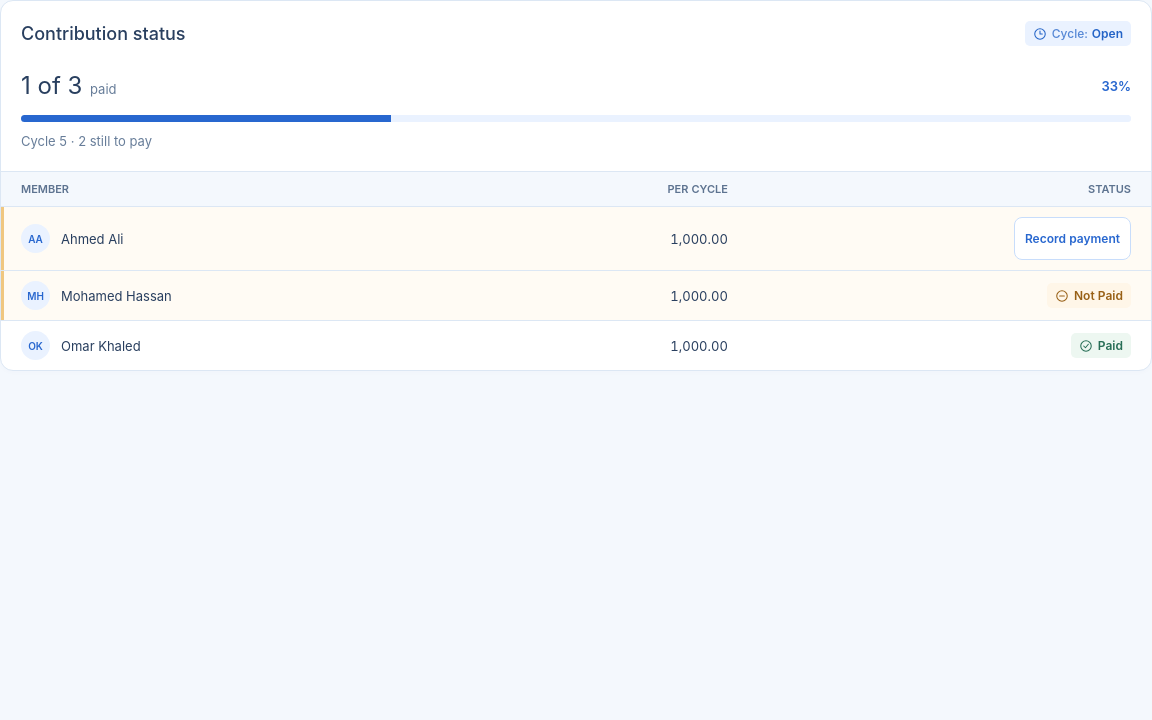
Test: Record payment › asks for confirmation, says no money moves, then posts exactly once
Click the button with aria-label "Record payment for Ahmed Ali" at (1072, 238), box x1=1014 y1=217 x2=1131 y2=260
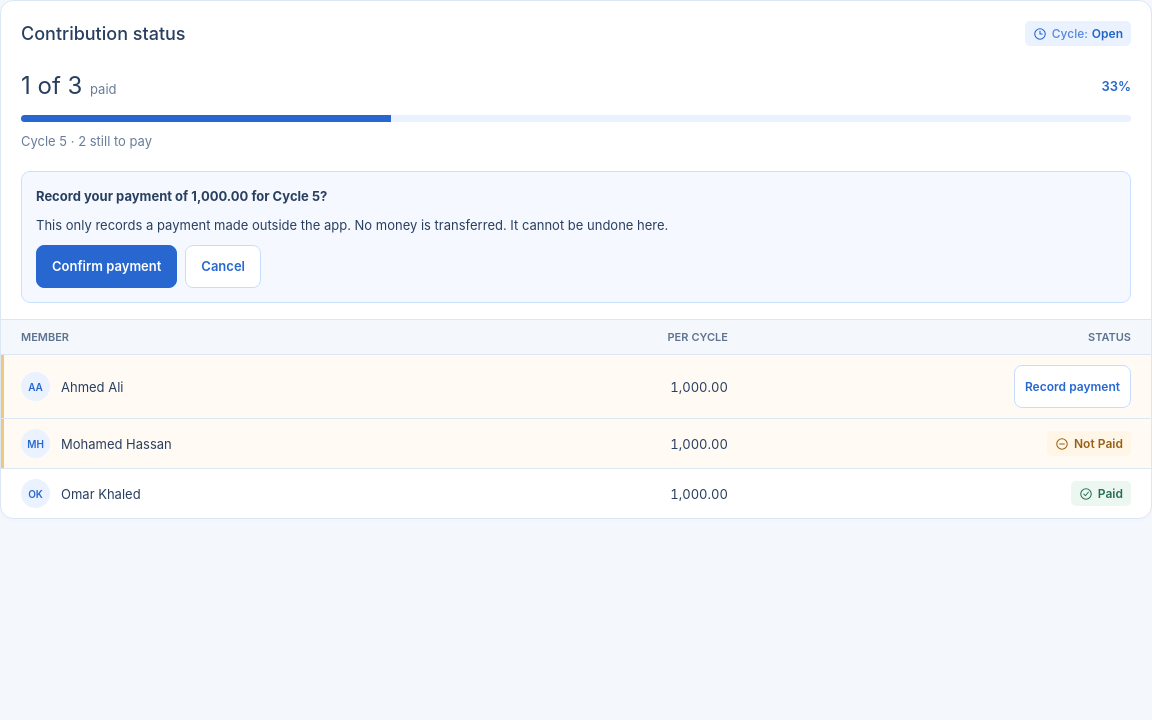
Result: the dialog shows "Record your payment of 1,000.00 for Cycle 5?" at x1=21 y1=171 x2=1131 y2=303
Click the button "Confirm payment" at (107, 267), box x1=36 y1=245 x2=177 y2=288
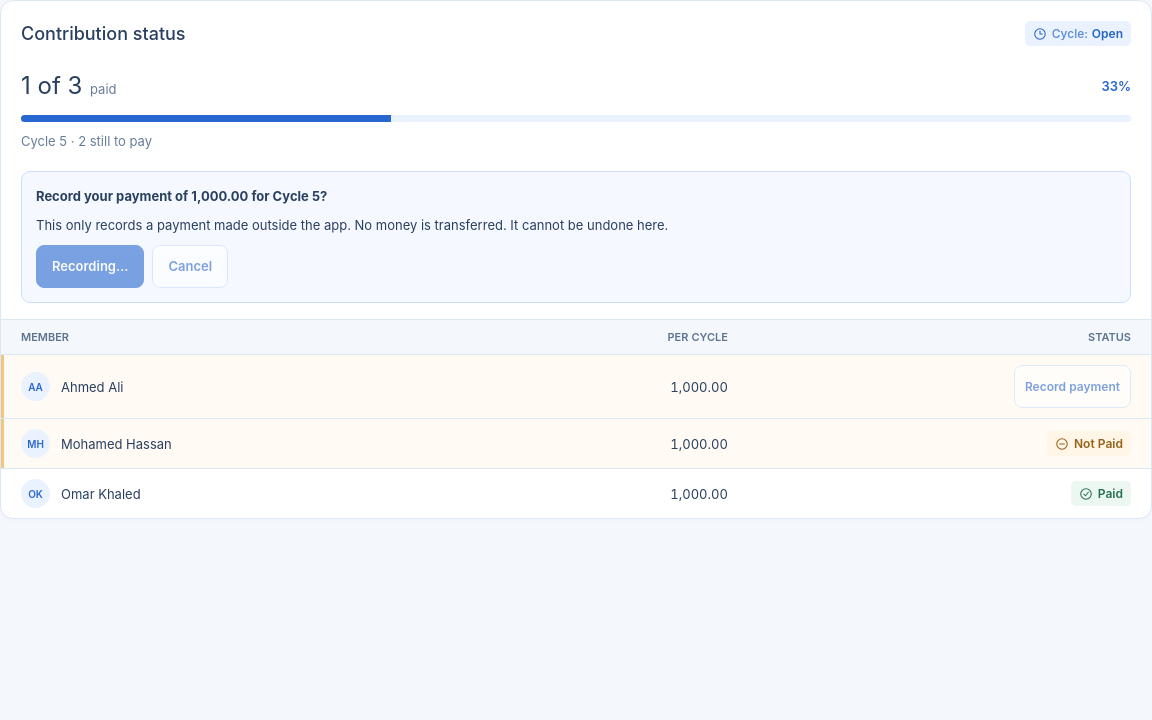
Click the button named "Confirm payment" at (90, 267), box x1=36 y1=245 x2=144 y2=288
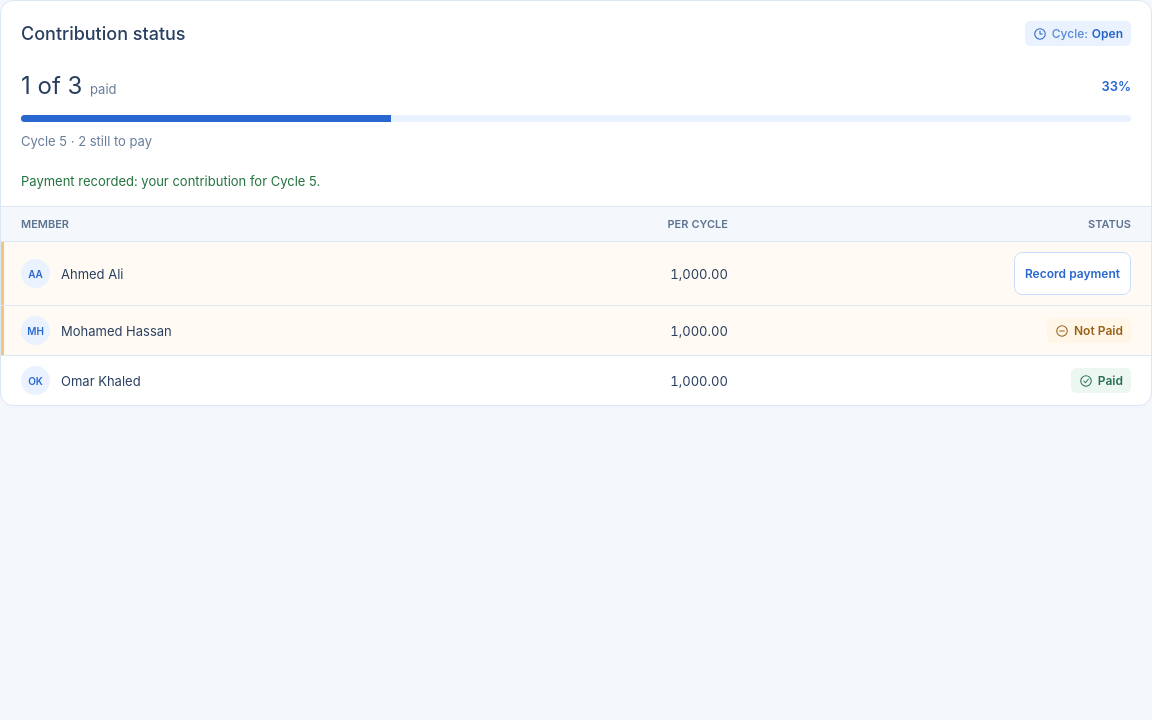
Result: the message shows "Payment recorded: your contribution for Cycle 5" at x1=21 y1=173 x2=320 y2=189
